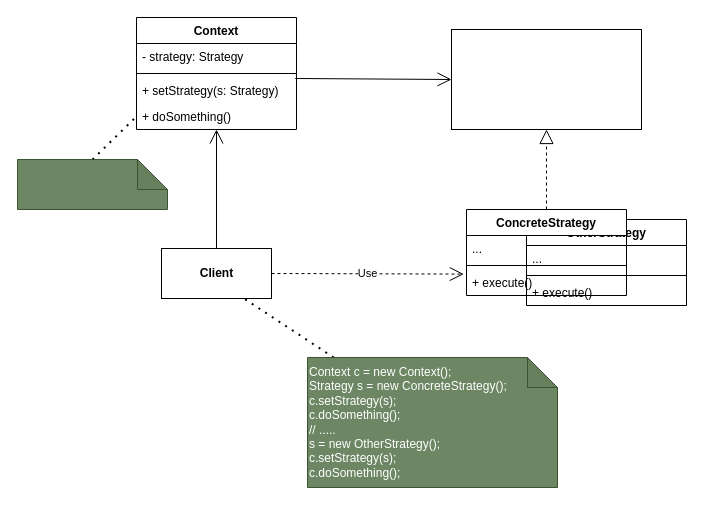
Some shapes in this 704 by 505 pixel diagram are drawn without their labels. Each missing label, with the box of its shape:
// 相关操作 ..... strategy.execute(): (16, 158, 168, 210)
<<Interface>> Strategy + execute(): (450, 28, 642, 130)
